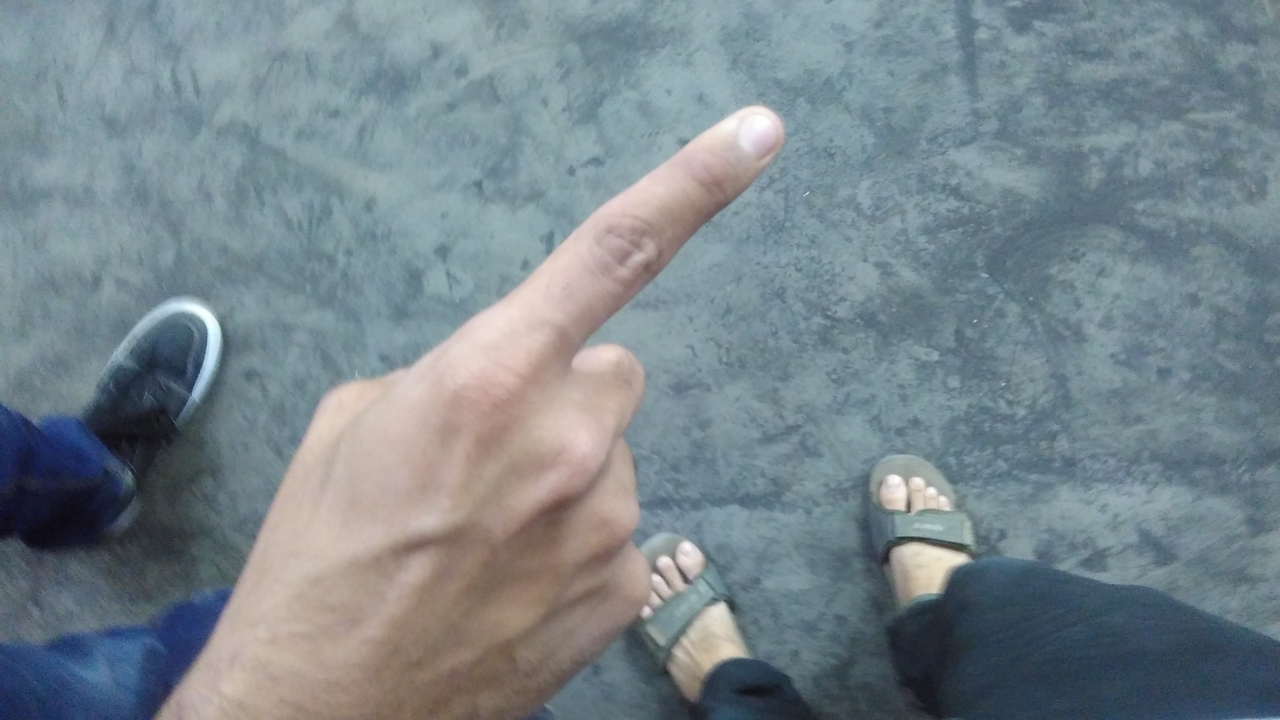fingertip: (718, 96, 798, 162)
